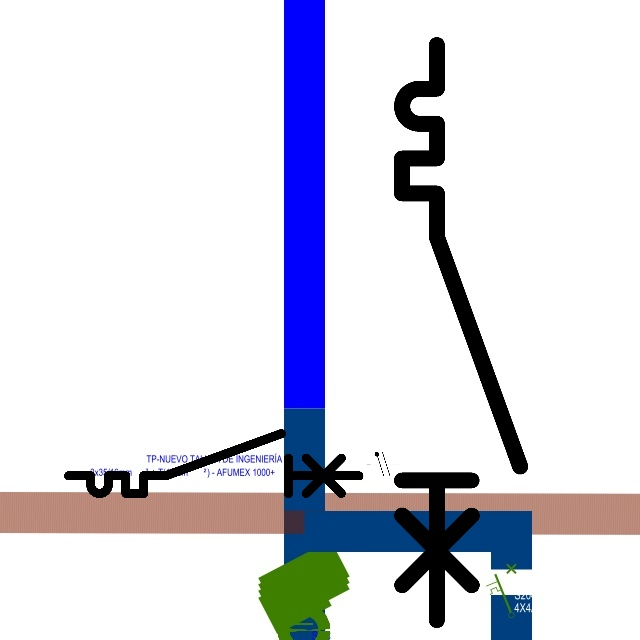interruptor_termomagnetico: (387, 30, 535, 635), (61, 426, 367, 501)
